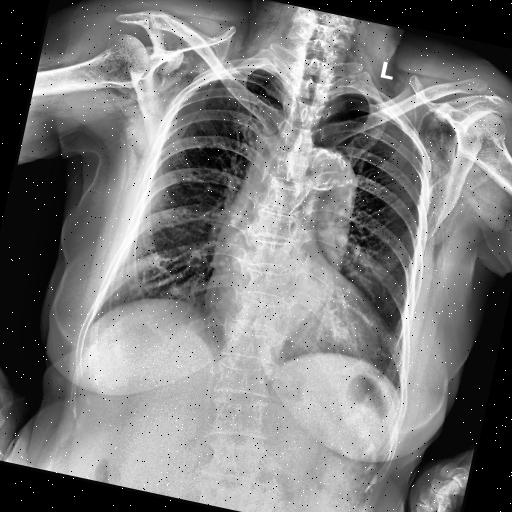0- Aortic enlargement: (284, 140, 366, 240), (286, 140, 365, 216), (288, 143, 362, 210)
3- Cardiomegaly: (195, 258, 400, 372), (196, 272, 395, 366), (194, 277, 398, 367)
